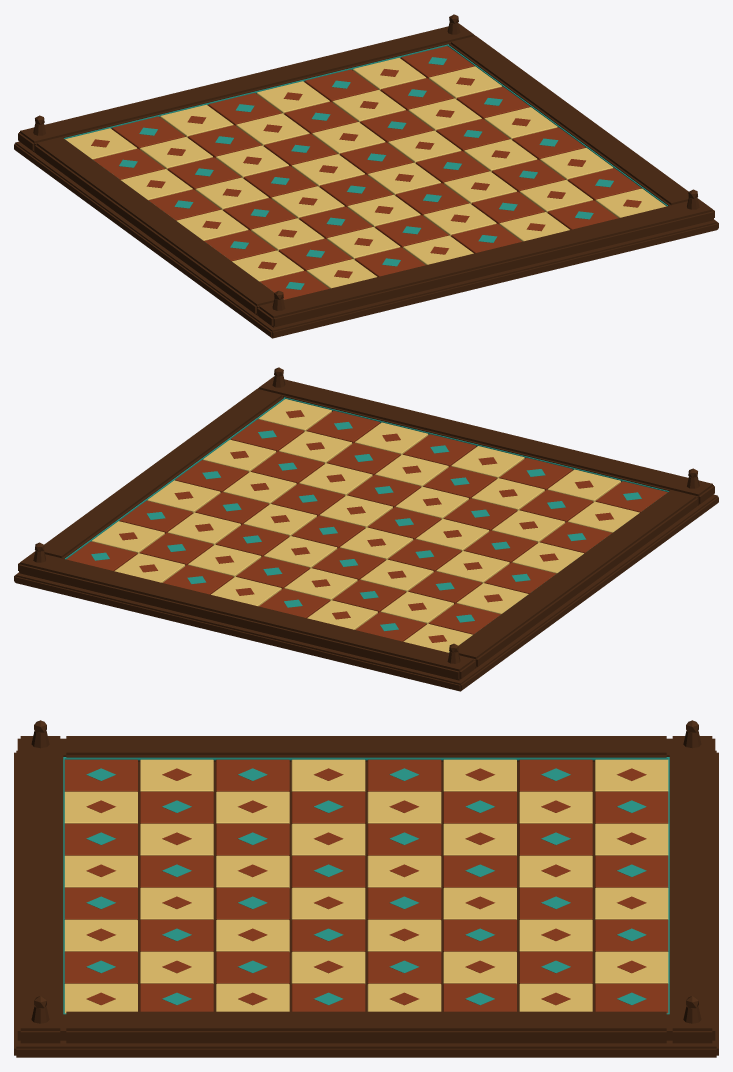
File: Cartagena_Tablero.fbx
The picture shows the model from 3 angles, top to bottom: view 1: azimuth 30°, elevation 25°; view 2: azimuth 150°, elevation 25°; view 3: azimuth 270°, elevation 25°; orthographic projection. The views are drawn at different scales.
Parts seen in each view (by area): view 1: Cartagena_Tablero; view 2: Cartagena_Tablero; view 3: Cartagena_Tablero.
Part boxes in pixels (bbox=[...]): Cartagena_Tablero: bbox=[14, 14, 718, 338]; Cartagena_Tablero: bbox=[14, 367, 718, 691]; Cartagena_Tablero: bbox=[14, 720, 718, 1057].
Size of the model in its own units: 9.3 by 1.32 by 9.3.
